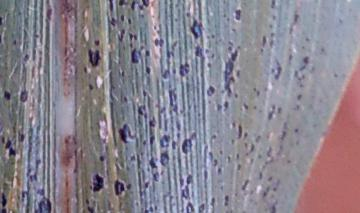tarspot: (220, 43, 241, 97), (32, 187, 52, 213), (118, 122, 139, 145), (181, 131, 198, 156), (169, 104, 182, 133), (188, 18, 204, 40), (29, 158, 42, 183), (158, 105, 169, 133), (87, 48, 102, 68), (166, 85, 179, 107), (91, 172, 104, 193), (273, 56, 283, 83), (136, 102, 149, 122), (113, 177, 125, 198), (158, 150, 171, 169), (294, 65, 307, 84), (18, 86, 30, 106), (71, 147, 79, 174), (264, 145, 274, 166), (43, 6, 55, 23), (178, 61, 190, 78), (265, 104, 276, 121), (136, 150, 146, 168), (158, 134, 170, 148), (150, 22, 162, 36), (116, 28, 127, 43), (179, 186, 190, 201), (151, 169, 161, 185), (129, 48, 139, 64), (274, 143, 284, 159), (148, 156, 159, 170), (148, 114, 157, 131), (268, 30, 276, 49), (183, 201, 195, 213), (204, 85, 215, 98), (160, 68, 171, 81), (137, 1, 151, 11), (193, 44, 203, 58), (1, 192, 9, 209), (202, 167, 210, 184), (233, 7, 242, 22), (153, 37, 165, 48), (164, 47, 174, 60), (143, 205, 159, 213), (222, 99, 231, 113), (149, 132, 157, 147), (185, 172, 193, 187), (270, 198, 278, 213), (241, 178, 249, 192), (262, 184, 270, 198), (7, 146, 17, 157), (127, 31, 137, 42), (136, 10, 147, 20), (108, 16, 117, 28), (224, 39, 233, 51), (278, 130, 287, 142), (18, 131, 26, 144), (21, 51, 29, 64), (20, 188, 30, 198), (236, 123, 241, 143), (294, 92, 304, 102), (3, 90, 12, 101), (197, 202, 206, 213), (142, 180, 151, 191), (301, 54, 310, 65), (259, 35, 267, 47), (174, 130, 182, 142), (292, 103, 302, 112), (4, 139, 12, 150), (281, 120, 289, 131), (92, 39, 101, 48), (269, 1, 278, 10), (144, 65, 152, 75), (170, 40, 178, 50), (209, 133, 217, 143), (133, 199, 141, 209), (308, 65, 316, 75), (108, 1, 114, 14), (242, 100, 248, 113), (249, 142, 255, 155), (287, 53, 293, 66), (81, 65, 88, 76), (178, 176, 185, 187), (141, 87, 148, 98), (137, 45, 144, 56), (292, 13, 299, 24), (215, 101, 222, 112), (170, 139, 177, 150), (224, 193, 229, 208), (85, 205, 94, 213), (117, 1, 126, 9), (232, 91, 240, 100), (98, 153, 105, 163), (84, 196, 91, 206), (125, 181, 132, 191), (87, 81, 94, 91), (276, 105, 283, 115), (207, 151, 214, 161), (209, 195, 215, 206), (286, 156, 292, 167), (33, 32, 41, 40), (254, 134, 262, 142), (256, 107, 264, 115), (118, 13, 125, 22), (144, 49, 151, 58), (185, 10, 192, 19), (266, 174, 273, 183), (336, 17, 345, 24), (293, 137, 300, 146), (130, 1, 136, 11), (129, 153, 135, 163), (230, 136, 236, 146), (125, 17, 132, 25), (304, 35, 311, 43), (270, 13, 277, 21), (267, 22, 274, 30), (122, 94, 128, 103), (216, 166, 222, 175), (225, 154, 231, 163), (288, 26, 294, 35), (1, 135, 6, 145), (26, 167, 31, 177), (235, 68, 240, 78), (236, 162, 241, 172), (231, 119, 236, 129), (249, 156, 254, 166), (140, 139, 147, 146), (271, 186, 278, 193), (250, 103, 257, 110), (221, 11, 228, 18), (119, 69, 125, 77), (293, 127, 299, 135), (332, 72, 338, 80), (203, 47, 209, 55), (210, 52, 216, 60), (256, 154, 264, 160), (269, 67, 275, 75), (171, 67, 176, 76), (235, 151, 240, 160), (258, 171, 263, 180), (11, 39, 17, 46), (258, 48, 265, 54), (206, 61, 212, 68), (243, 131, 249, 138), (212, 159, 218, 166), (251, 86, 257, 93), (319, 46, 325, 53), (230, 26, 236, 33), (243, 141, 249, 148), (225, 16, 231, 23), (205, 34, 211, 40), (217, 149, 223, 155), (1, 208, 8, 213), (256, 90, 261, 97), (200, 114, 205, 121), (173, 16, 178, 23), (1, 15, 4, 26), (210, 33, 215, 39), (1, 33, 3, 43)
